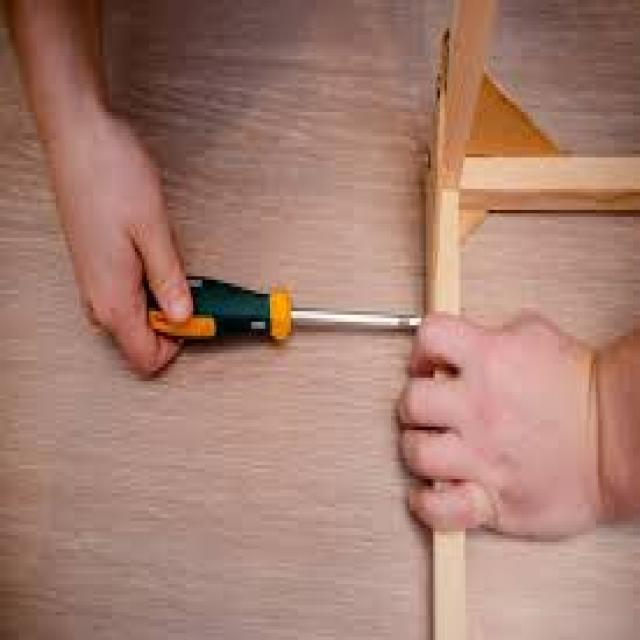screwdriver: (142, 272, 438, 346)
